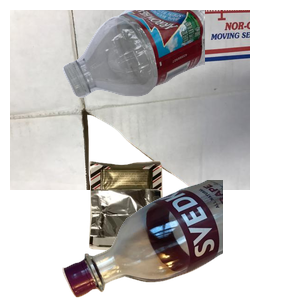cardboard: (10, 10, 250, 190)
glass: (60, 180, 300, 300)
plastic: (60, 10, 300, 100)
trash: (86, 158, 242, 300)
